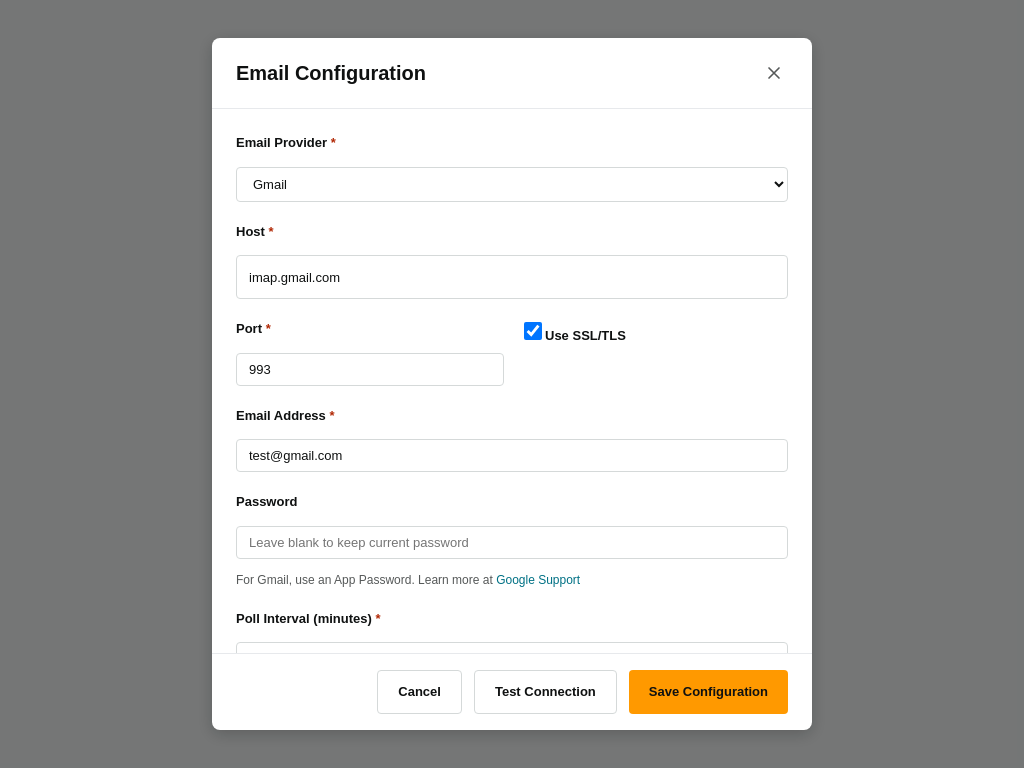
Test: EmailConfigDialog › Test Connection › should disable buttons while testing
What coordinates should you click on to do the following:
click the button "Test Connection"
I would click on:
 (545, 692)
Its box is [474,670,617,714].
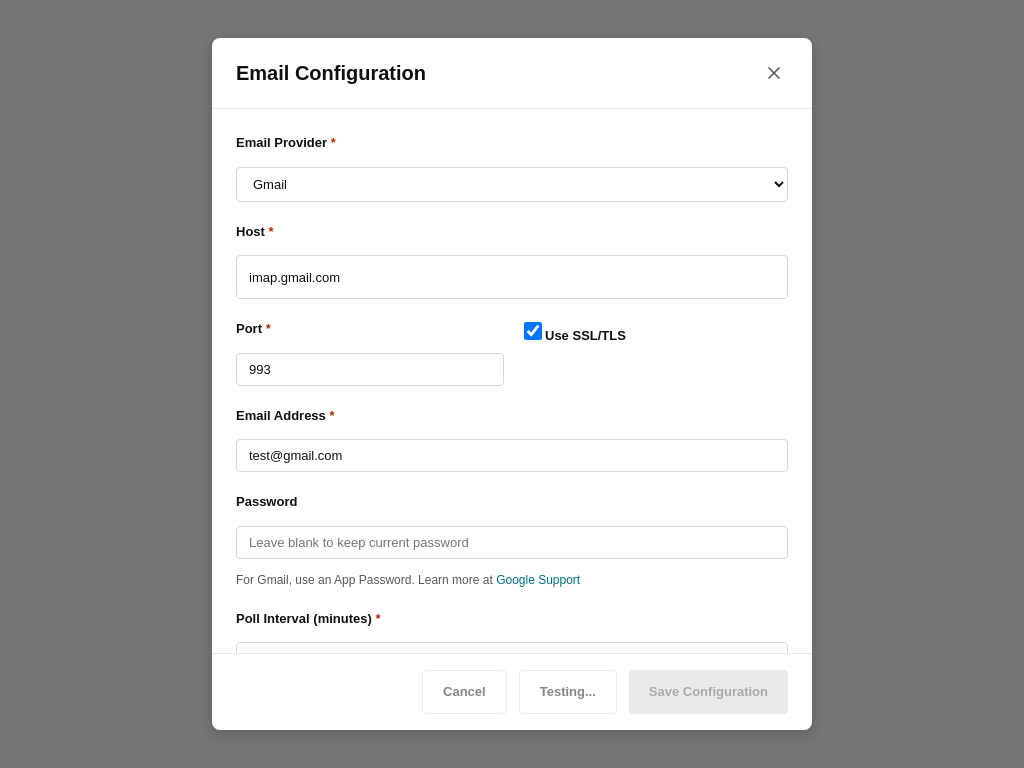
Result: the button "Cancel" is disabled at [422,670,507,714]
Result: the button "Save Configuration" is disabled at [629,670,788,714]
